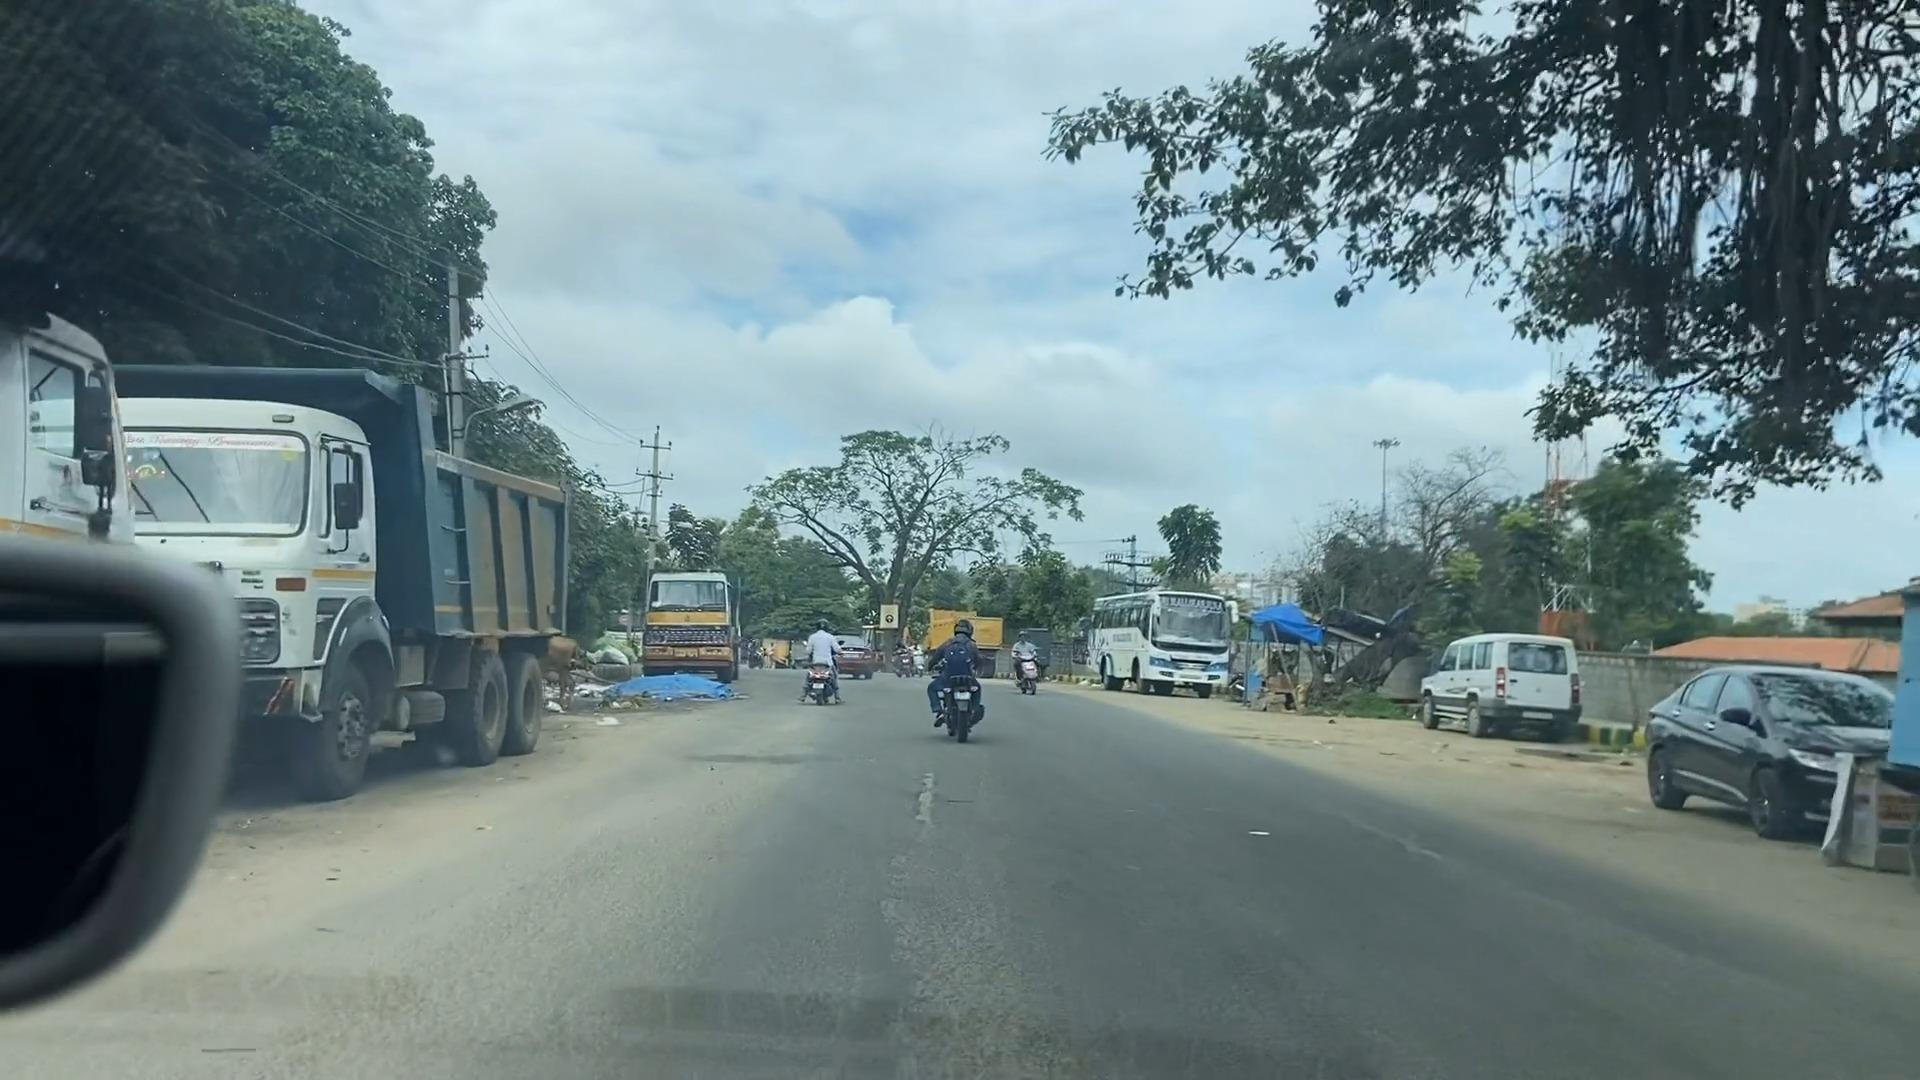HMV: (120, 353, 596, 773), (0, 232, 190, 862), (1058, 550, 1247, 713), (618, 506, 740, 690)
LMV: (1598, 618, 1890, 858), (1391, 582, 1590, 760), (895, 546, 1036, 796), (742, 562, 831, 709), (811, 559, 918, 671), (1009, 607, 1046, 703)
RoadDamages: (880, 746, 957, 856)
